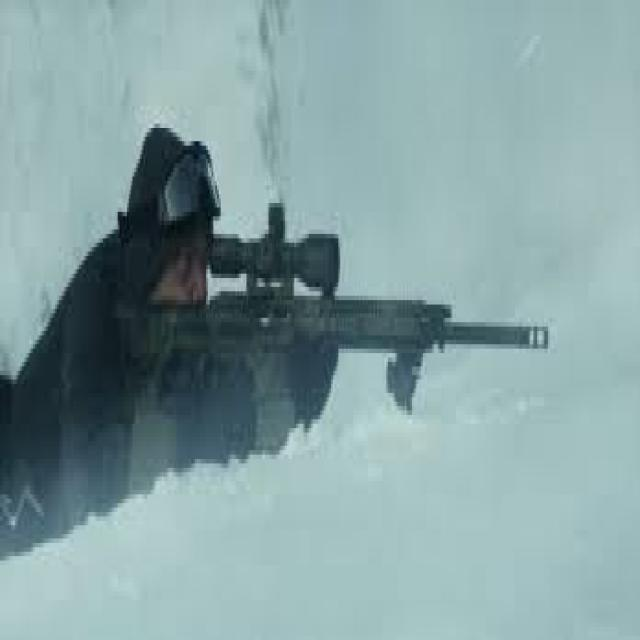weapon: (118, 202, 549, 478)
